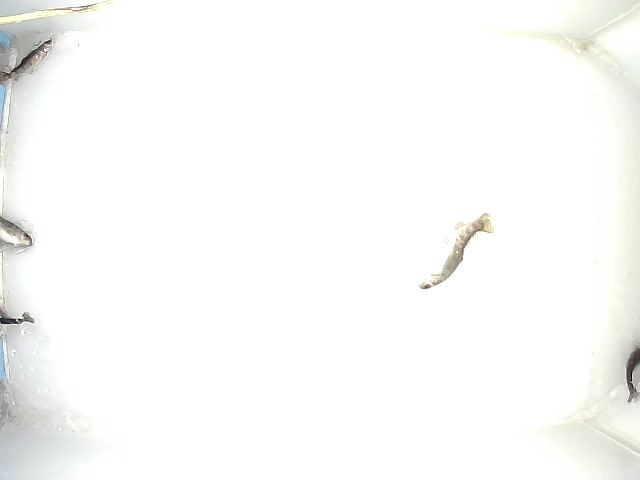fish: (418, 209, 495, 291)
